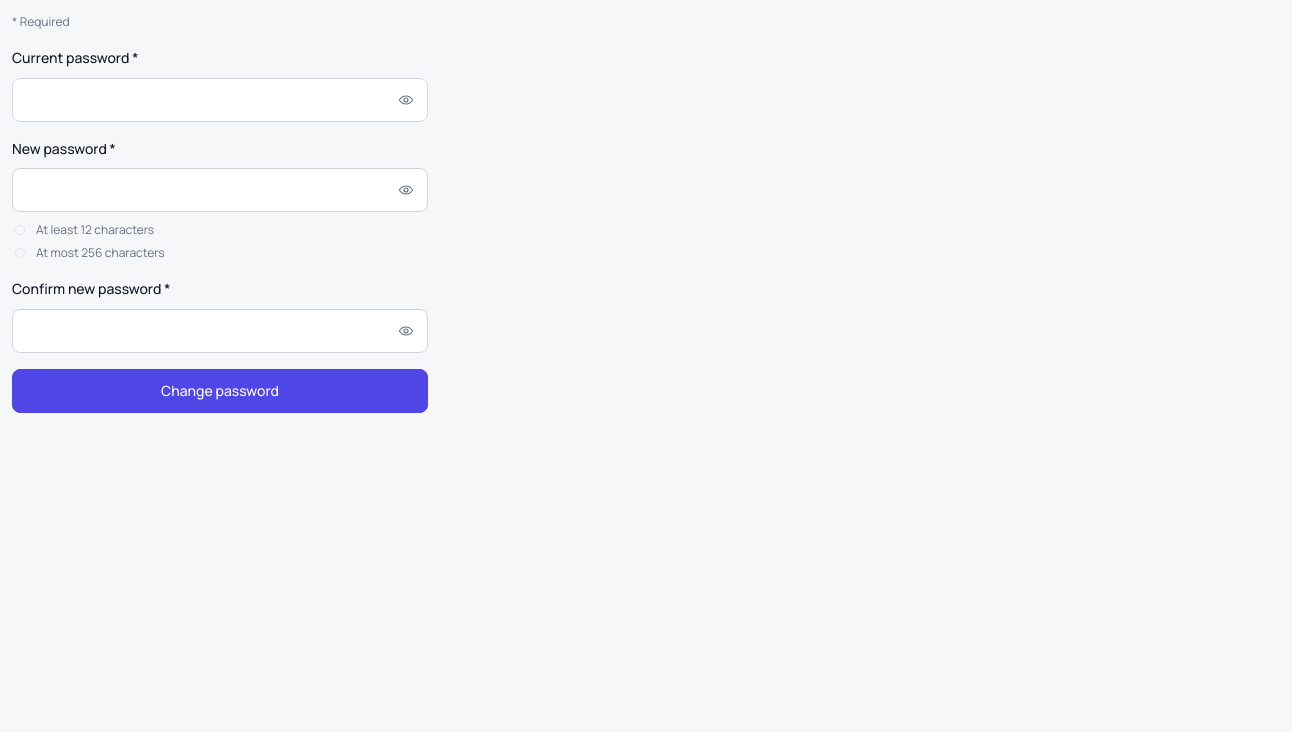
it: ChangePasswordForm › says the other sessions were signed out and that this one was not
Type "the-old-passphrase" into the password field labelled "Current password *".
click(220, 100); type("the-old-passphrase")  # box x1=12 y1=78 x2=428 y2=122
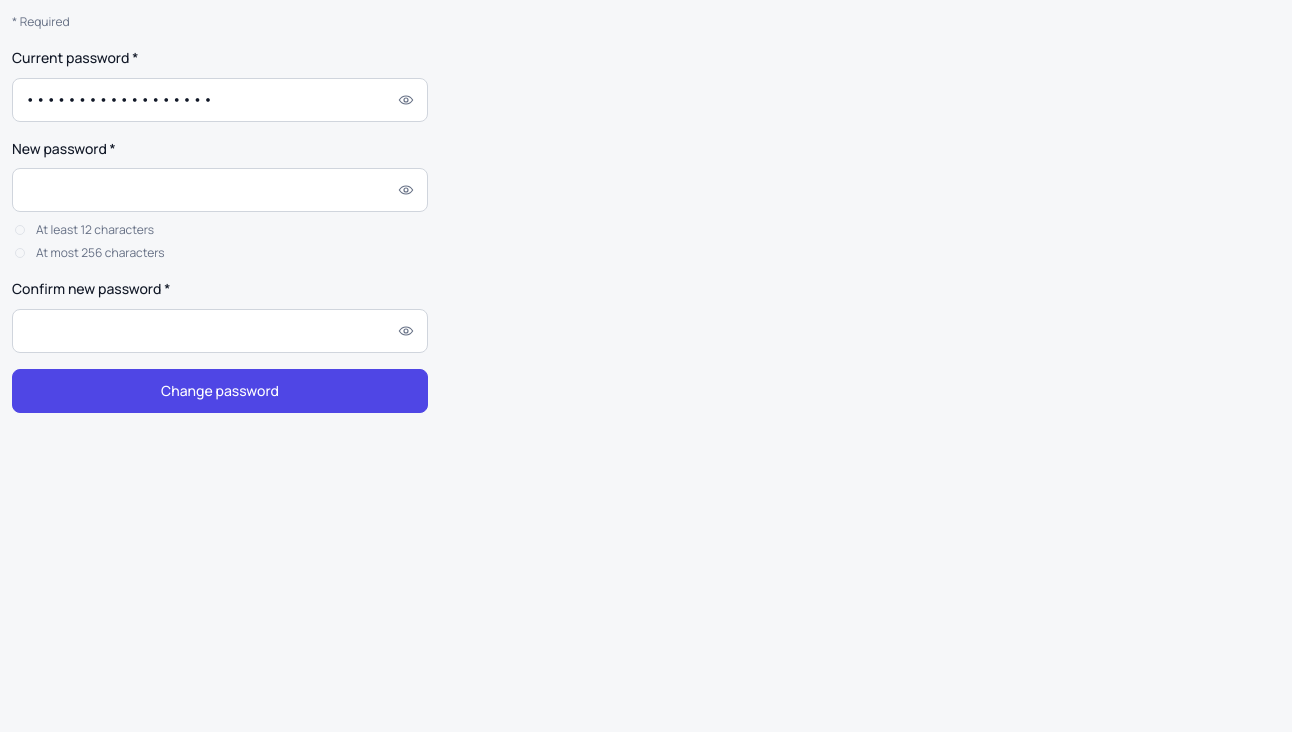
Type "a-perfectly-fine-passphrase" into the password field labelled "New password *".
click(220, 190); type("a-perfectly-fine-passphrase")  # box x1=12 y1=168 x2=428 y2=212
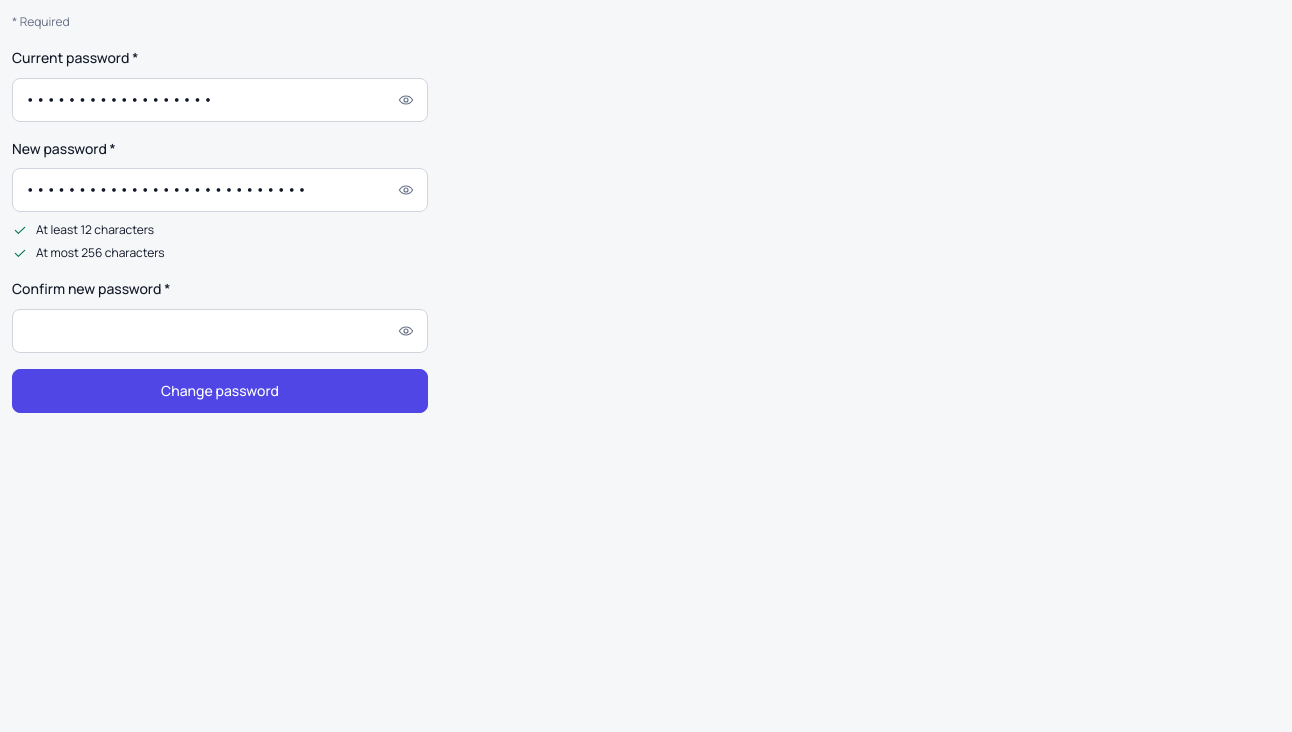
Type "a-perfectly-fine-passphrase" into the password field labelled "Confirm new password *".
click(220, 331); type("a-perfectly-fine-passphrase")  # box x1=12 y1=309 x2=428 y2=353
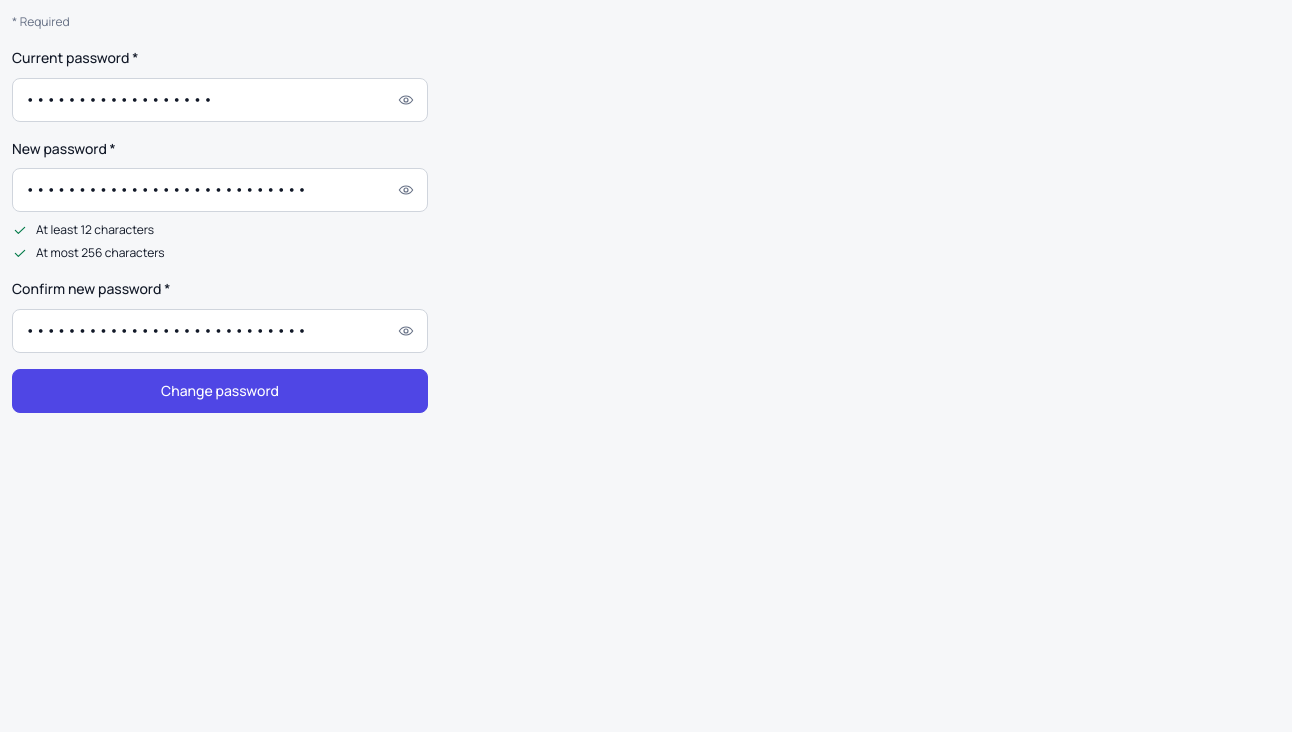
Click the button "Change password".
click(220, 391)  # box x1=12 y1=369 x2=428 y2=413
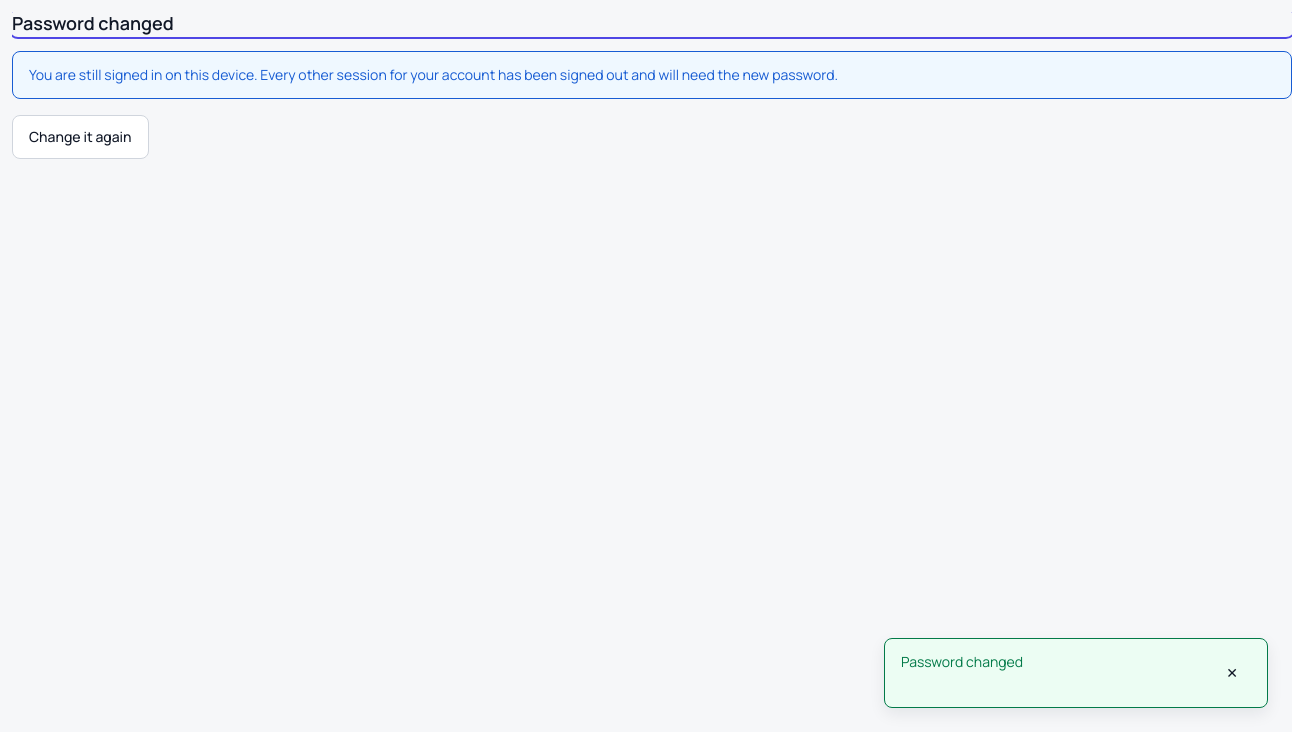
Now the heading "Password changed" is shown, box x1=12 y1=11 x2=174 y2=35
Now the text "You are still signed in on this device. Every other session for your account has been signed out and will need the new p" is shown, box x1=29 y1=64 x2=838 y2=84
